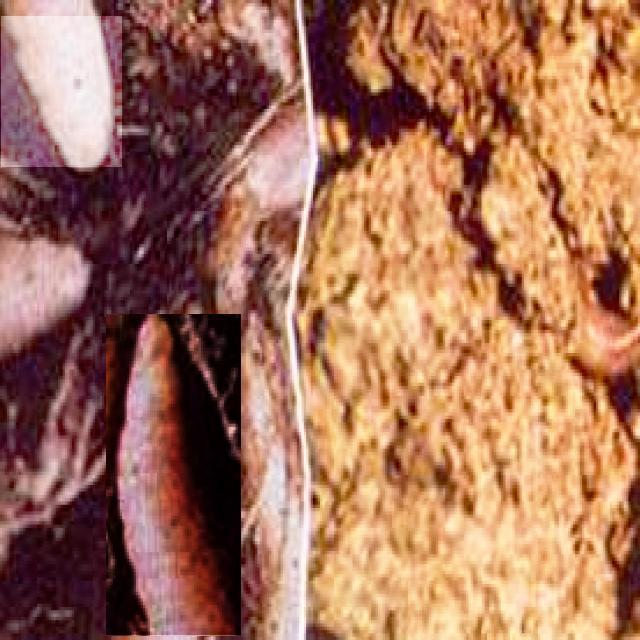whorl-maggot: (106, 315, 241, 635), (1, 17, 122, 167)
